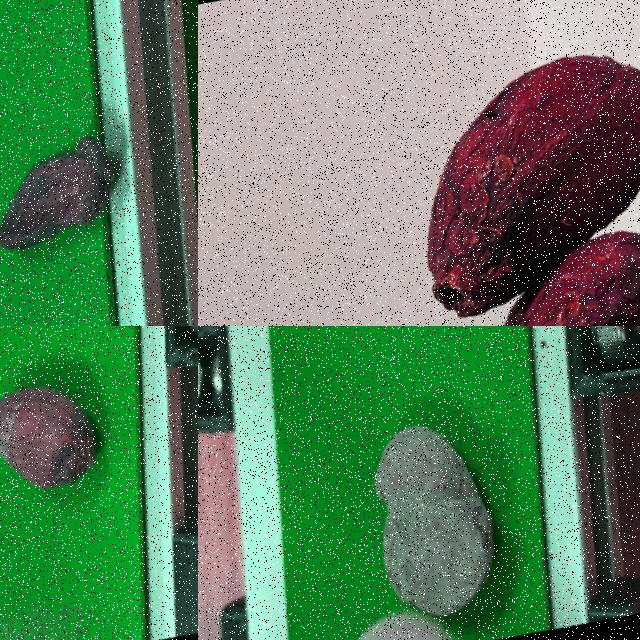Agglomerated_cocoabeans: (299, 326, 602, 639), (361, 0, 639, 325)
Fine_cocoabeans: (0, 326, 188, 583)
Flat_cocoabeans: (0, 65, 177, 325)
